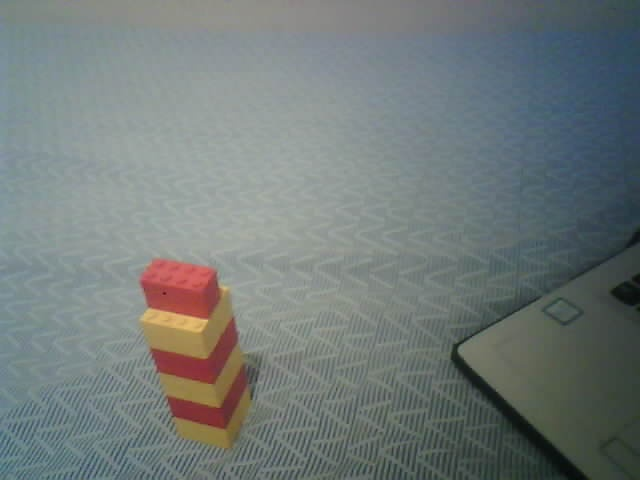lego: (137, 256, 252, 451)
